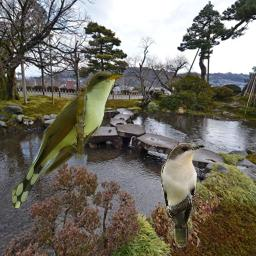Cuckoo: (12, 71, 123, 208), (161, 143, 205, 248)
